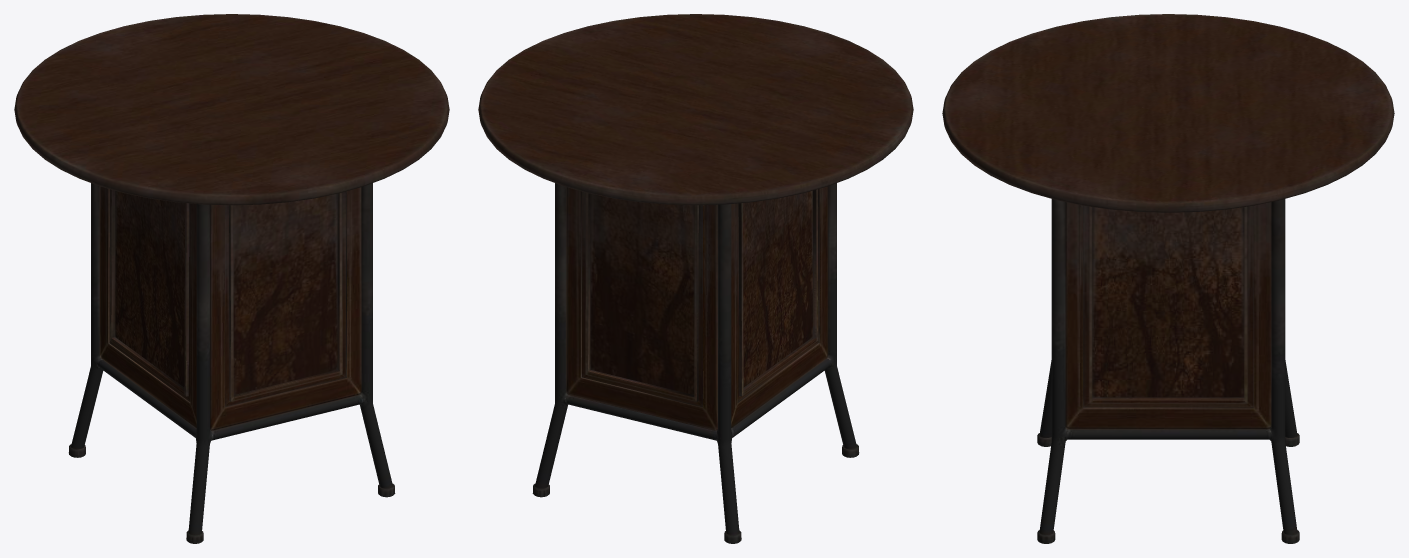
File: round_wooden_table_02.glb
The picture shows the model from 3 angles, left to right: view 1: azimuth 30°, elevation 25°; view 2: azimuth 150°, elevation 25°; view 3: azimuth 270°, elevation 25°; orthographic projection. The views are drawn at different scales.
Visible parts, largest first — view 1: round_wooden_table_02; view 2: round_wooden_table_02; view 3: round_wooden_table_02.
Boxes of the visible parts, box(x1,y1,x2,y2) form: round_wooden_table_02: box(14, 14, 449, 543); round_wooden_table_02: box(478, 14, 913, 543); round_wooden_table_02: box(942, 14, 1394, 543).
Size of the model in its own units: 0.7962 by 0.746 by 0.7962.
1 material, 1 textured.
